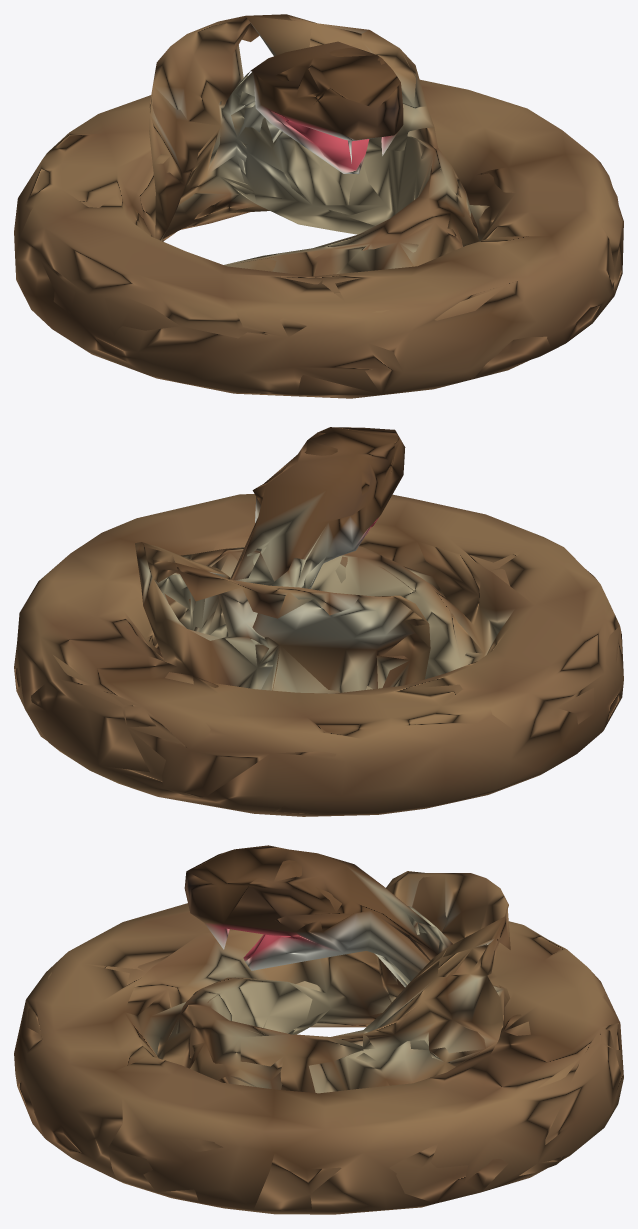
The model's file is gen3d-rattlesnake-lod0.glb.
3 renders of one model, top to bottom at view 1: azimuth 30°, elevation 25°; view 2: azimuth 150°, elevation 25°; view 3: azimuth 270°, elevation 25°, orthographic.
Parts seen in each view (by area): view 1: part_0; view 2: part_0; view 3: part_0.
Boxes of the visible parts, box(x1,y1,x2,y2) form: part_0: box(14, 14, 623, 398); part_0: box(14, 427, 623, 816); part_0: box(14, 845, 623, 1214).
Bounding box in the file's own units: 2.08 × 0.9877 × 2.1.
